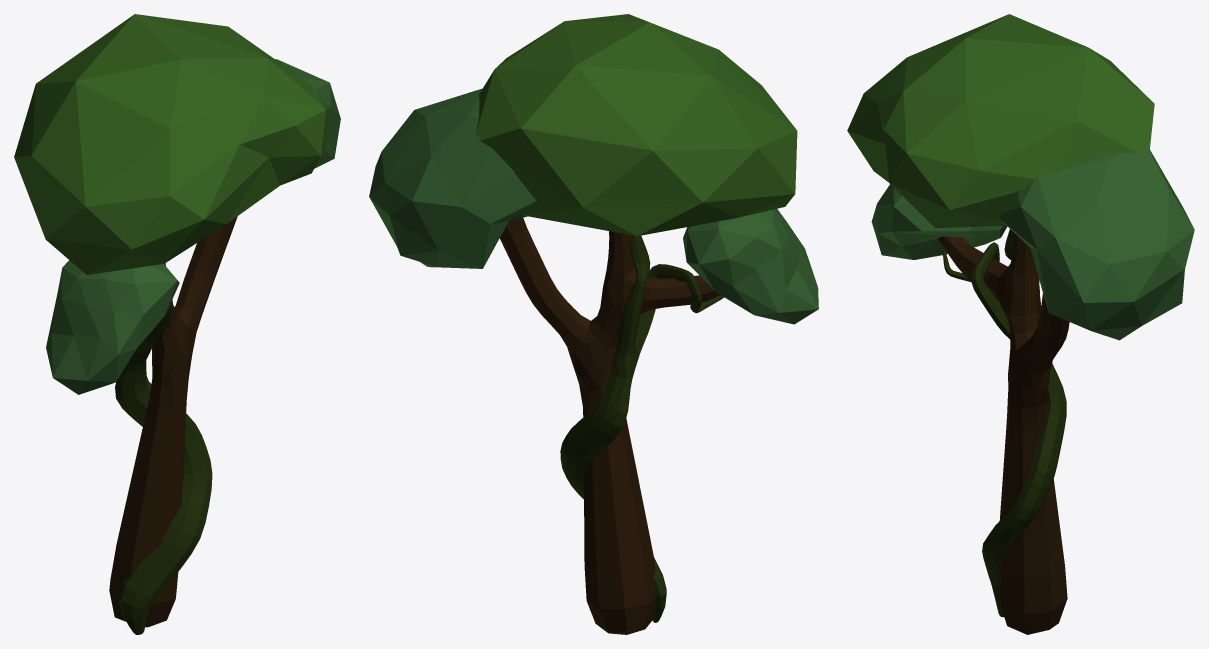
File: jungle_tree1.1_withvine.fbx
3 views of the same model, side by side, from view 1: azimuth 30°, elevation 25°; view 2: azimuth 150°, elevation 25°; view 3: azimuth 270°, elevation 25° (orthographic).
Parts seen in each view (by area): view 1: Plane; view 2: Plane; view 3: Plane.
Part boxes in pixels (<box>): Plane: <box>14,14,340,634</box>; Plane: <box>369,14,818,634</box>; Plane: <box>847,14,1194,634</box>.
Size of the model in its own units: 654 by 1003 by 529.
